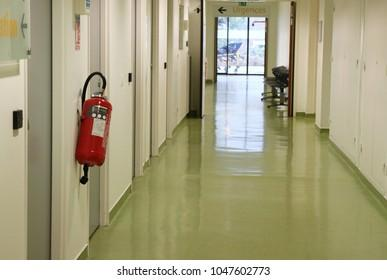wall-mounted: (70, 66, 119, 186)
